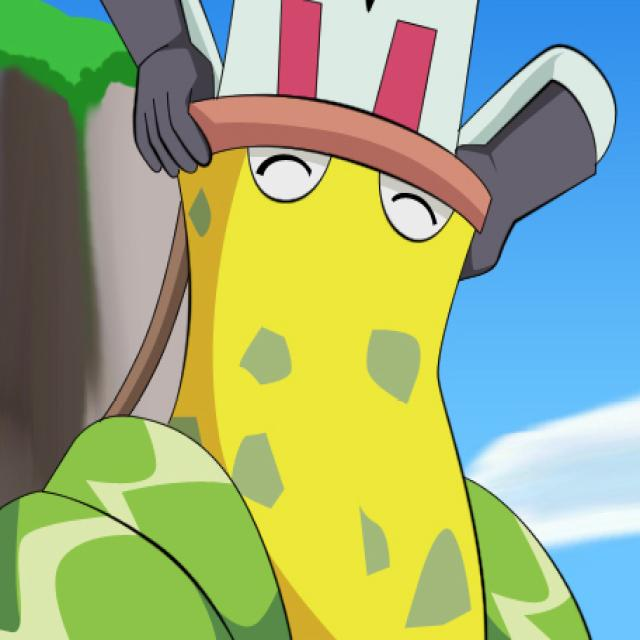Victreebel: (139, 95, 502, 640)
